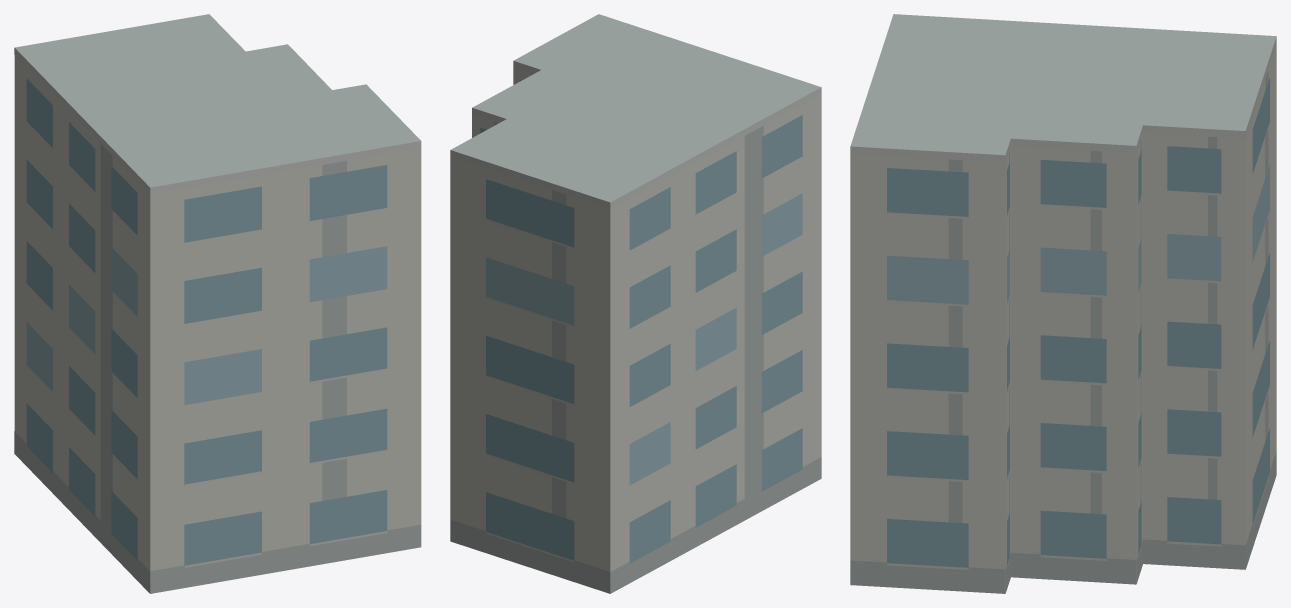
Rendered from survey-upis-32817900.glb.
The picture shows the model from 3 angles, left to right: view 1: azimuth 30°, elevation 25°; view 2: azimuth 150°, elevation 25°; view 3: azimuth 270°, elevation 25°; orthographic projection. The views are drawn at different scales.
Visible parts, largest first — view 1: survey-upis-32817900.tmp; view 2: survey-upis-32817900.tmp; view 3: survey-upis-32817900.tmp.
Boxes of the visible parts, x1,y1,x2,y2 form: survey-upis-32817900.tmp: (14,14,421,593); survey-upis-32817900.tmp: (450,14,821,593); survey-upis-32817900.tmp: (850,14,1276,593).
Size of the model in its own units: 9.68 by 14 by 12.34.
